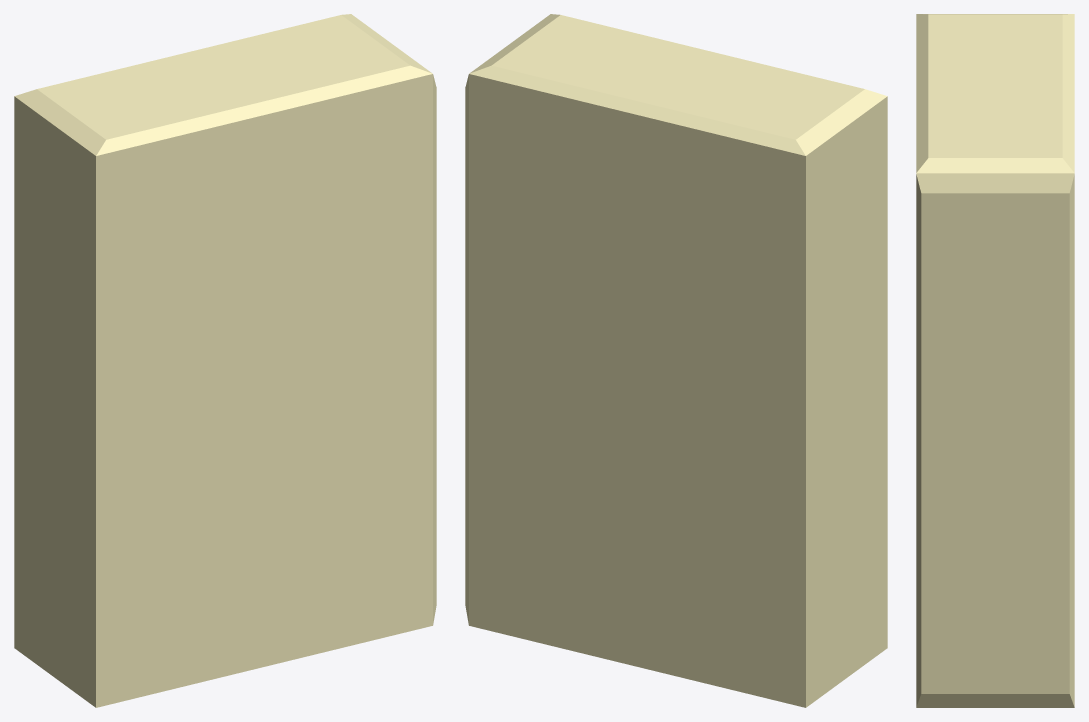
The model's file is Itr_Couch_Inside_Back_02.FBX.
3 views of the same model, side by side, from view 1: azimuth 30°, elevation 25°; view 2: azimuth 150°, elevation 25°; view 3: azimuth 270°, elevation 25° (orthographic). The views are drawn at different scales.
Visible parts, largest first — view 1: Itr_Couch_Inside_Back_02; view 2: Itr_Couch_Inside_Back_02; view 3: Itr_Couch_Inside_Back_02.
Boxes of the visible parts, box(x1,y1,x2,y2) form: Itr_Couch_Inside_Back_02: box(14, 14, 436, 707); Itr_Couch_Inside_Back_02: box(465, 14, 887, 707); Itr_Couch_Inside_Back_02: box(916, 14, 1074, 707).
Size of the model in its own units: 18.9 by 29.45 by 7.8.
